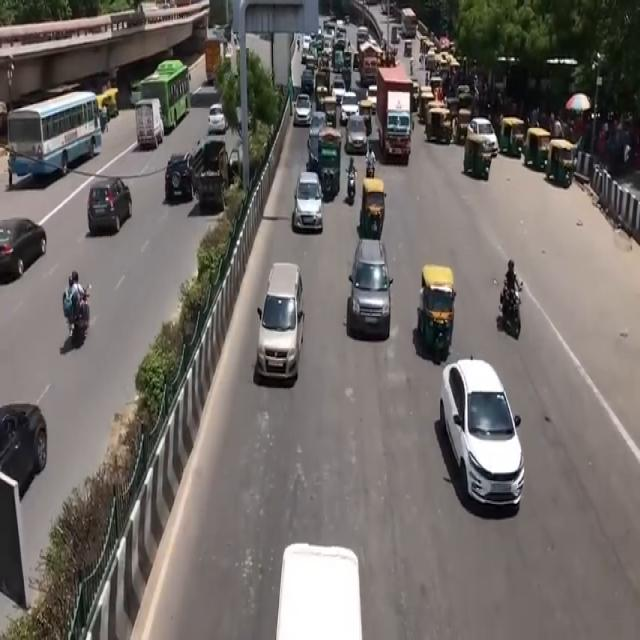BUS: (9, 89, 103, 187), (140, 57, 193, 133)
MOTORCYCLE: (506, 286, 524, 343)
SED: (440, 359, 525, 516)
TRUCK: (379, 68, 415, 164)
